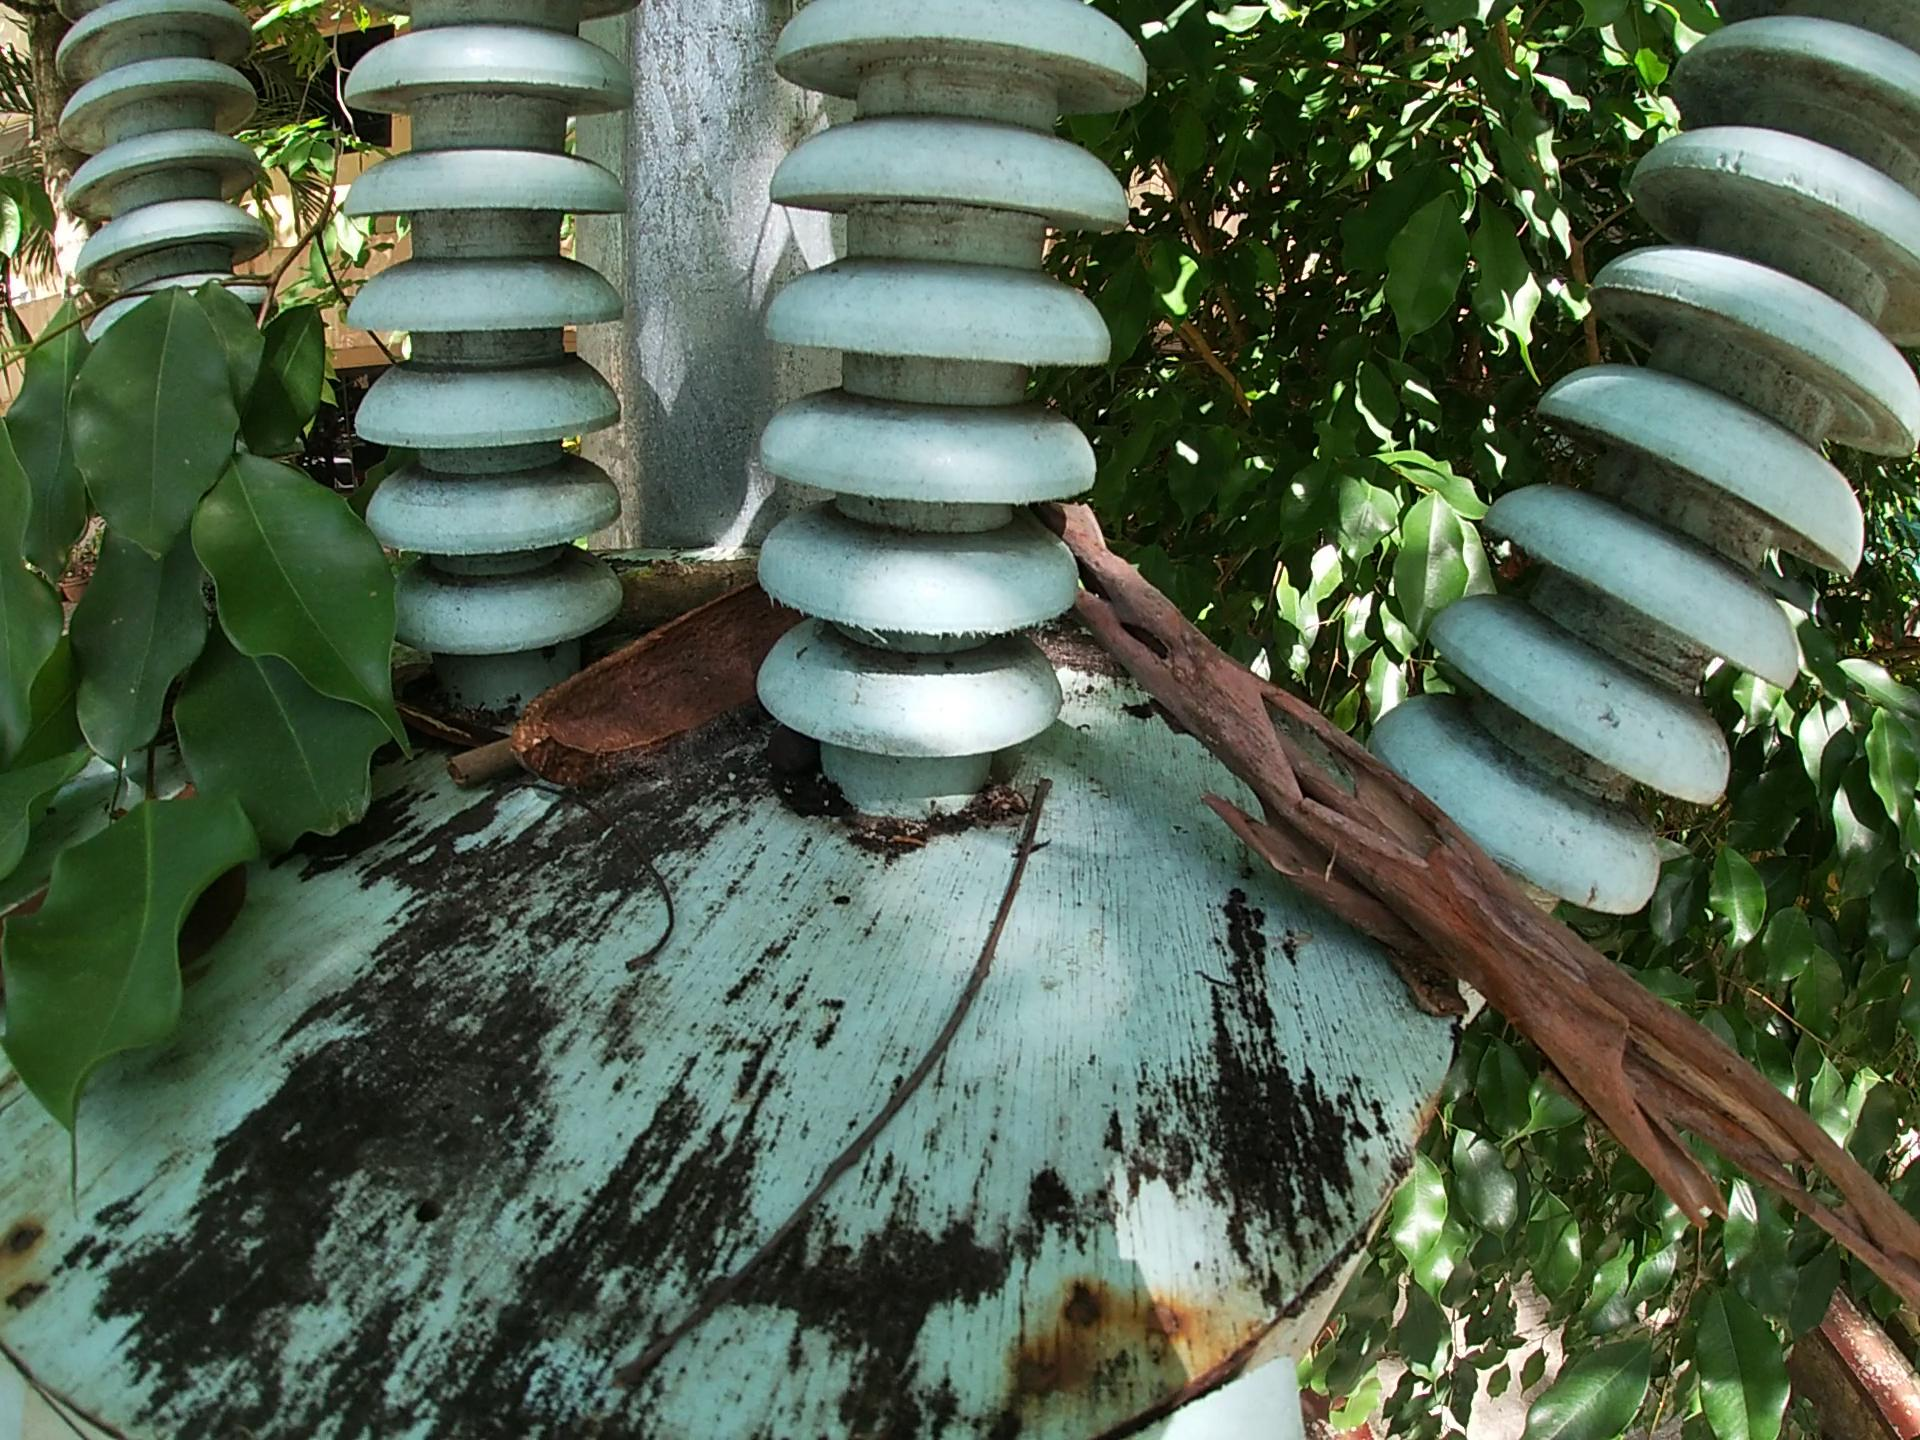branch with leaves: (2, 166, 461, 1198)
leaf: (192, 850, 265, 950)
tree branch: (1073, 545, 1917, 1333), (618, 771, 1055, 1384), (528, 779, 685, 989), (615, 537, 773, 625), (438, 740, 509, 784)
